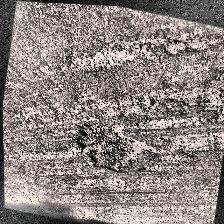pothole: (65, 112, 157, 182)
